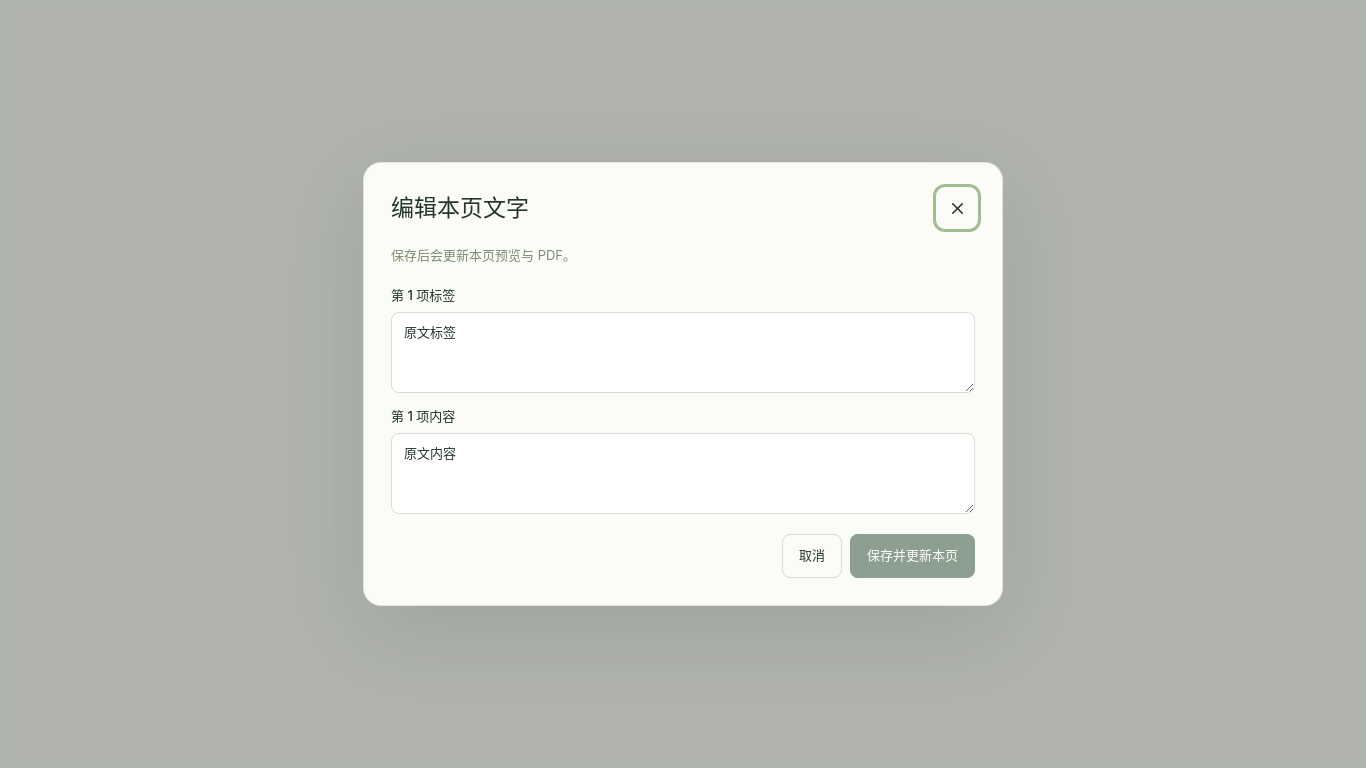
translated UI keeps editable content › translates slide field labels while retaining the current text draft
The image size is (1366, 768).
Replace the text in the text box named "第 1 项内容 2" with "尚未保存的中文草稿": (683, 474) 391,433 -> 975,514
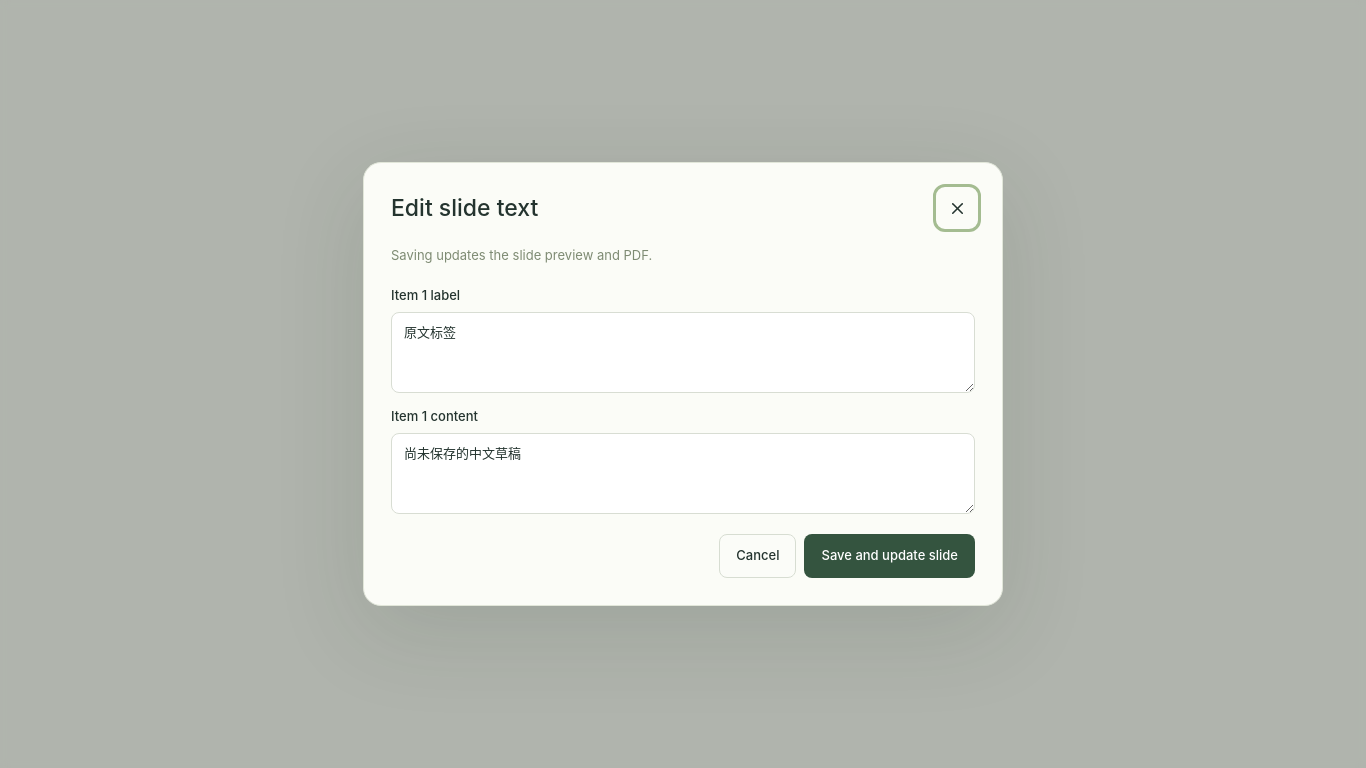
Check: the text box named "Item 1 label 1" holds "原文标签", box 391,312 -> 975,393
Check: the button "Save and update slide" is enabled, box 804,534 -> 975,578
